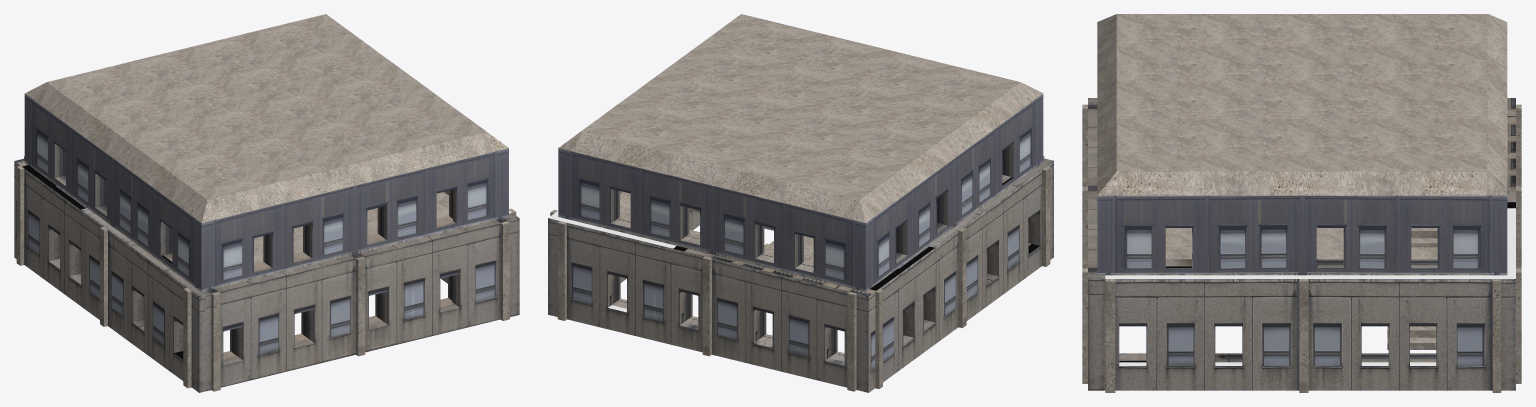
The model's file is BagSS01top_high.fbx.
3 views of the same model, side by side, from view 1: azimuth 30°, elevation 25°; view 2: azimuth 150°, elevation 25°; view 3: azimuth 270°, elevation 25° (orthographic). The views are drawn at different scales.
Parts seen in each view (by area): view 1: topC700, topB700, topA700; view 2: topC700, topB700, topA700; view 3: topC700, topB700, topA700, stairsA.
Part boxes in pixels (<box>): topC700: <box>14,94,519,392</box>; topB700: <box>25,14,508,222</box>; topA700: <box>16,156,516,391</box>; topC700: <box>548,94,1053,392</box>; topB700: <box>558,14,1042,222</box>; topA700: <box>550,156,1050,391</box>; topC700: <box>1088,98,1515,390</box>; topB700: <box>1097,14,1507,195</box>; topA700: <box>1082,104,1521,392</box>; stairsA: <box>1387,228,1437,349</box>.
Bounding box in the file's own units: 17.98 × 9.37 × 17.99.
